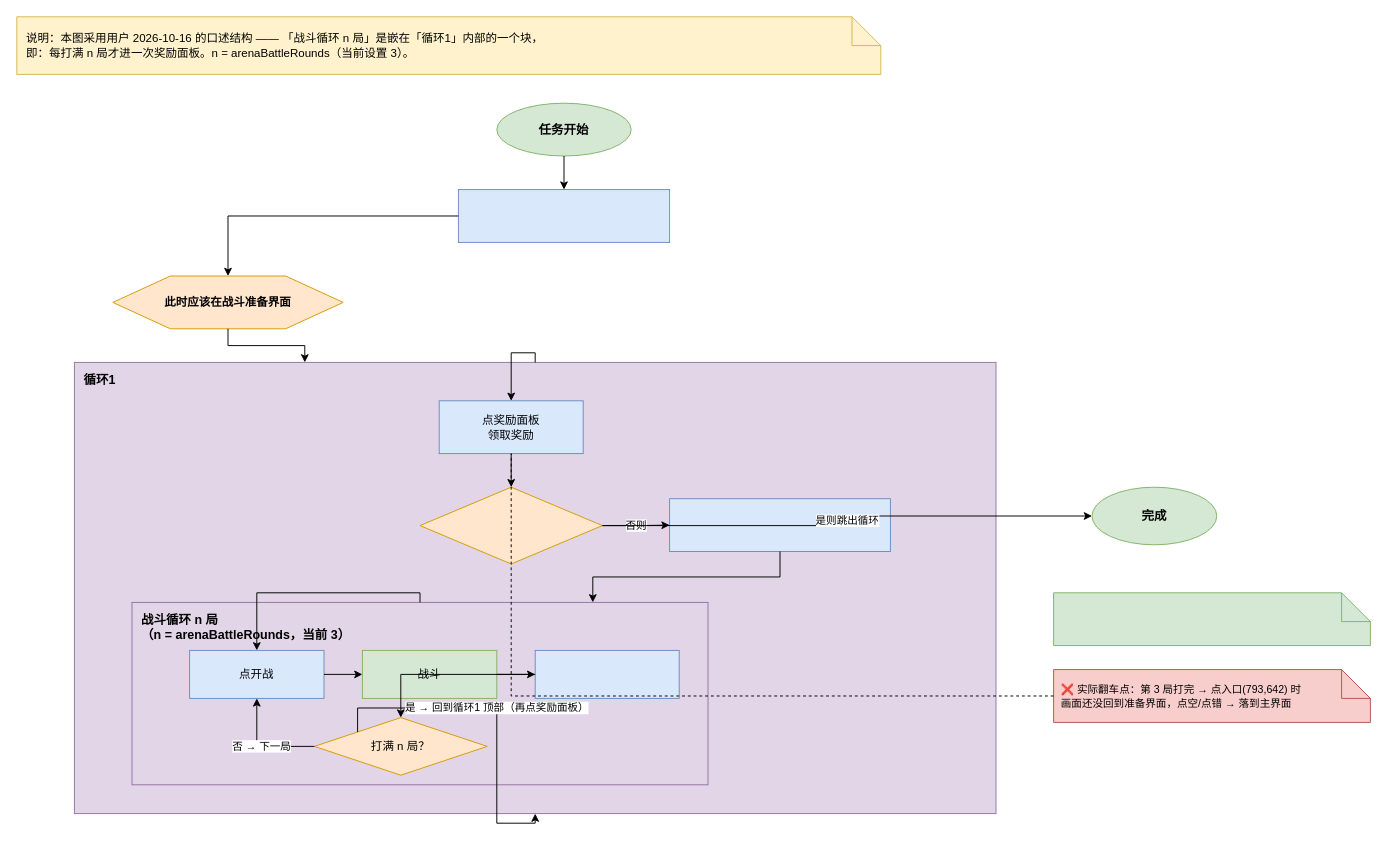
The diagram is 1387 pixels wide and 848 high, and some of its shapes have lost their labels. The shapes that lost their labels are listed below. From the top down, each one's box as (x1, y1, x2, y2) in pixels, then its label:
(457, 189, 670, 242): 首次进场（进场①~③） dragScene(left) → 角斗场 → 忍术对战
(419, 486, 602, 564): 确认是否 领取完奖励？
(669, 498, 890, 552): 点右边出奖励界面 ARENA_REWARD_EXIT(1245,320)
(1053, 592, 1370, 646): ✅ 与代码一致：claimArenaRewards 内部自己进出面板， 打完 n 局后回到它 → 再判 done
(534, 649, 679, 698): 战斗完成 （回准备界面）
